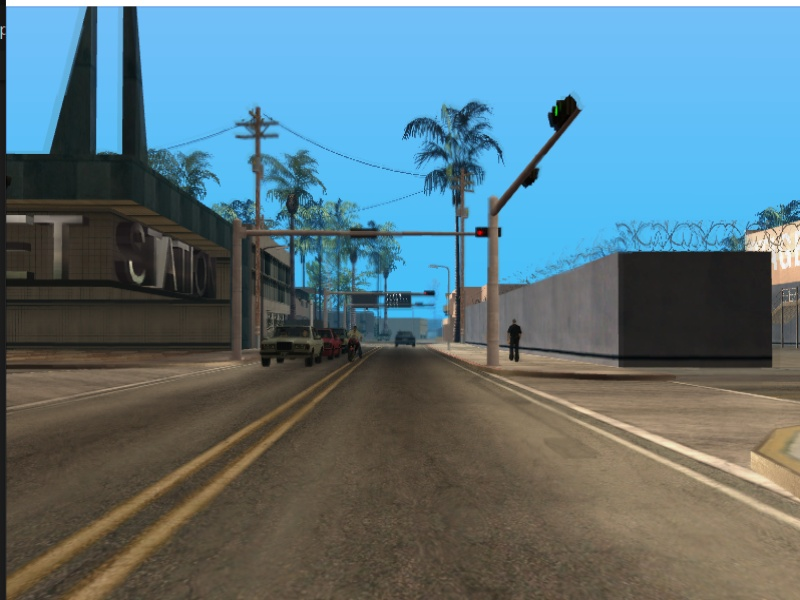person: (505, 320, 526, 364)
pole: (242, 110, 269, 351), (488, 197, 504, 370), (228, 219, 247, 364)
vehicle: (264, 327, 322, 367), (343, 325, 368, 364), (393, 330, 419, 349)
